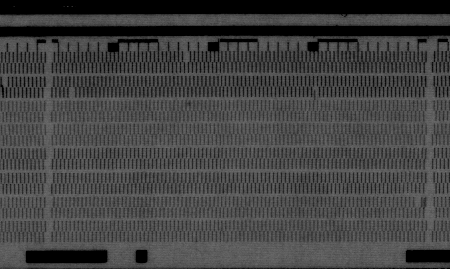Broken hole: (181, 49, 194, 65), (66, 88, 78, 99), (412, 196, 423, 208), (2, 77, 12, 90)
Oblique printing: (309, 86, 322, 101)
